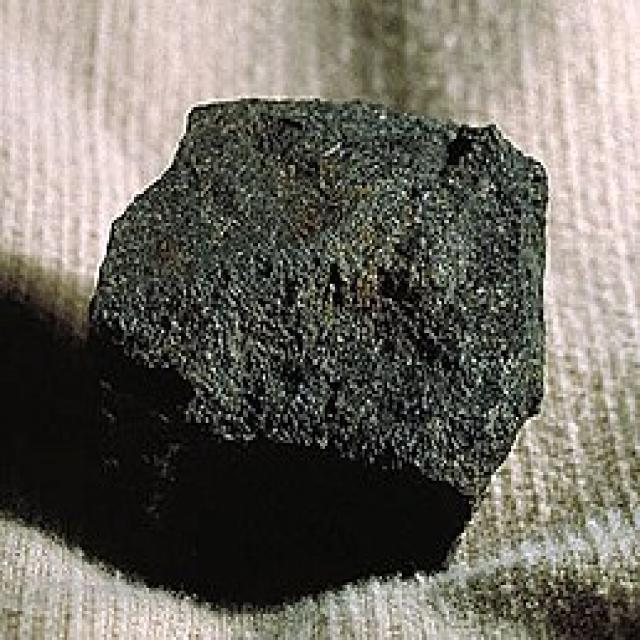Sedimentary: (92, 93, 563, 559)
